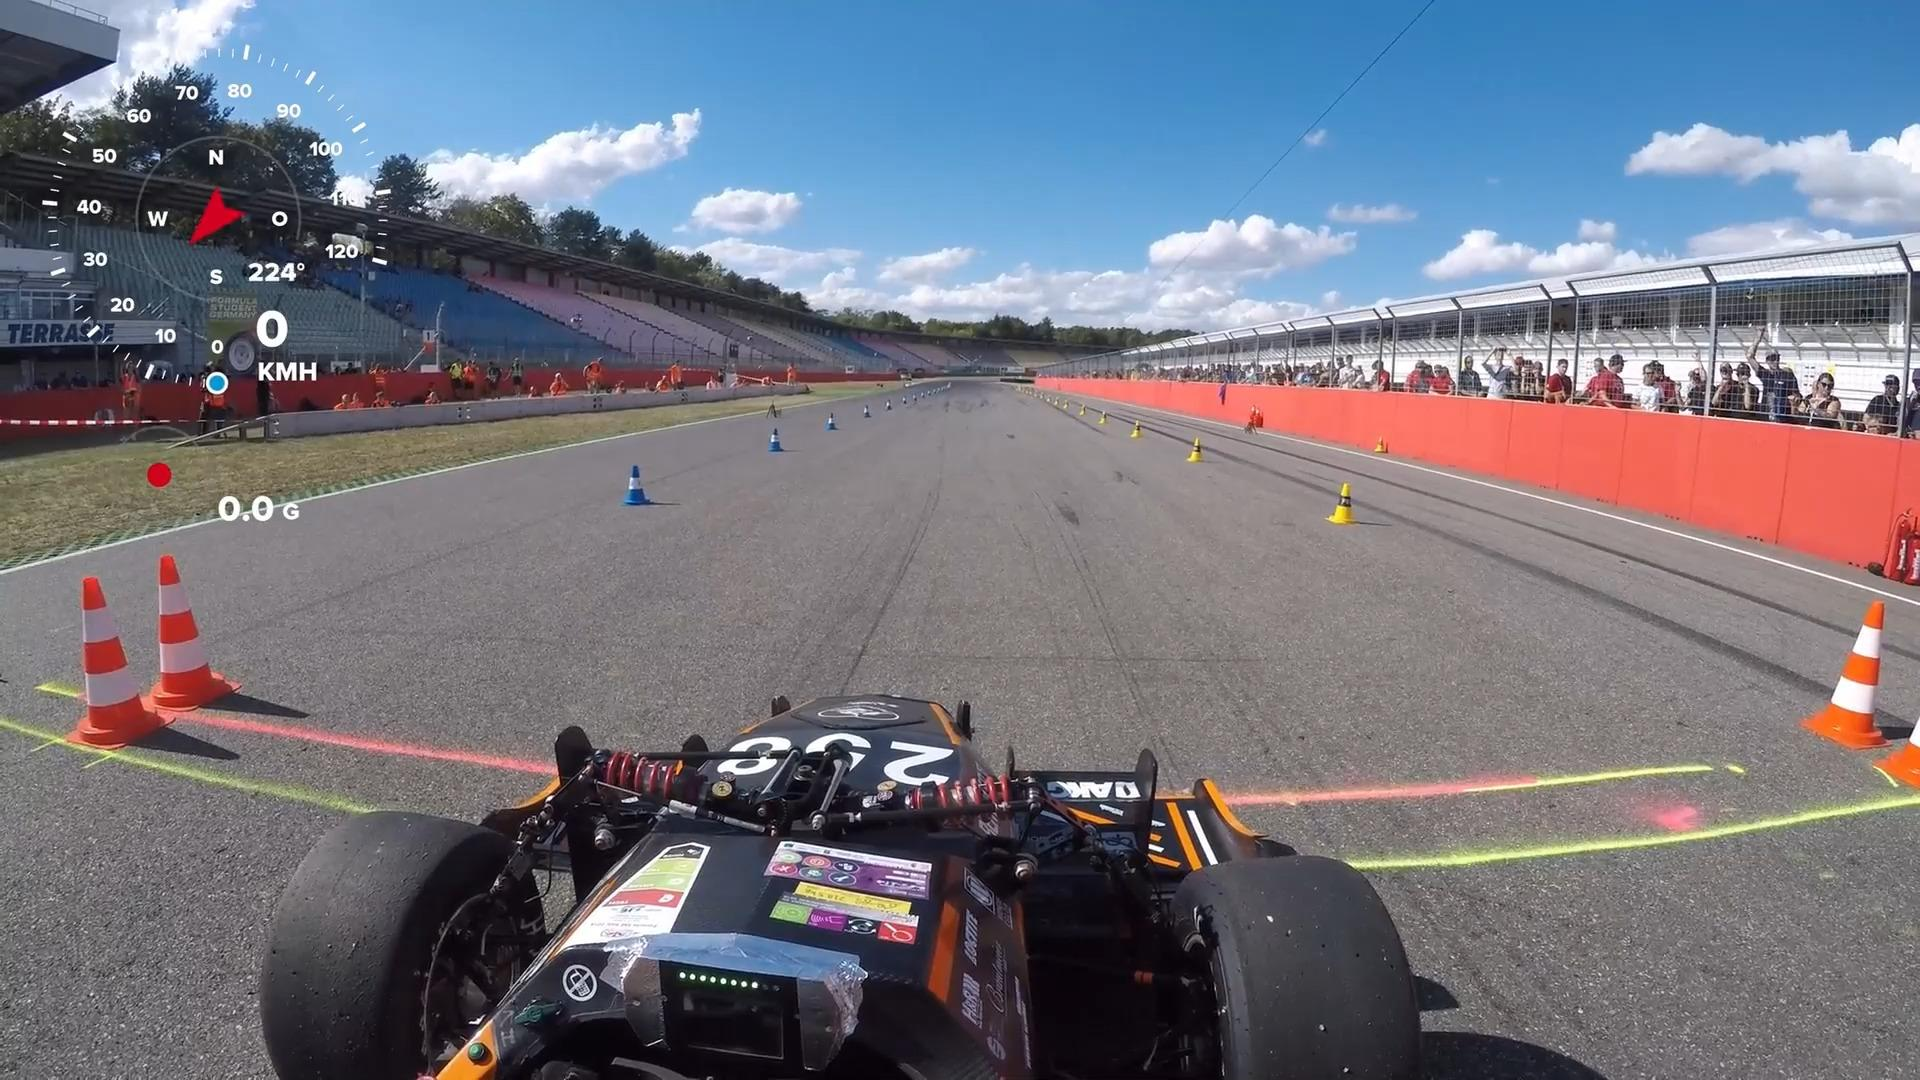blue_cone: (618, 463, 653, 508), (765, 427, 785, 454), (823, 410, 839, 431), (862, 405, 873, 418)
large_orange_cone: (62, 575, 177, 752), (128, 551, 244, 712), (1797, 595, 1895, 750), (1875, 665, 1920, 793)
yellow_cone: (1324, 480, 1357, 525), (1187, 436, 1204, 463), (1129, 419, 1142, 439)
